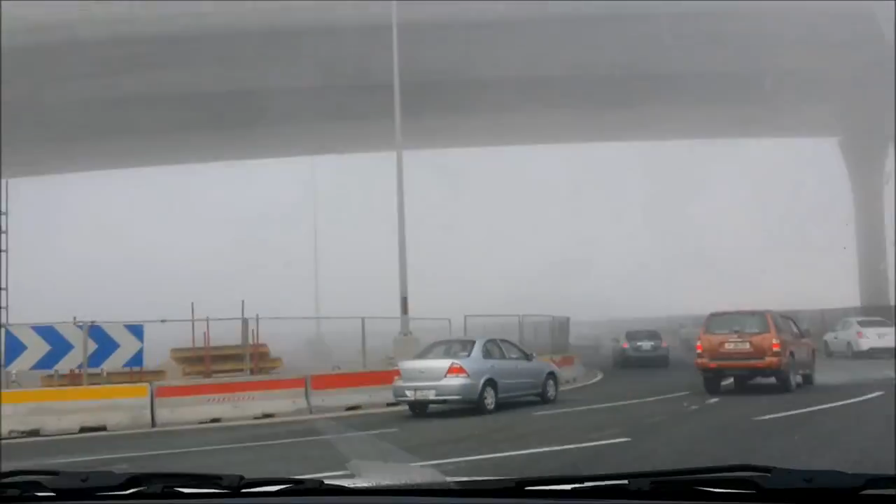car: (390, 335, 565, 417), (693, 308, 819, 395), (821, 315, 896, 359), (611, 328, 670, 369)
